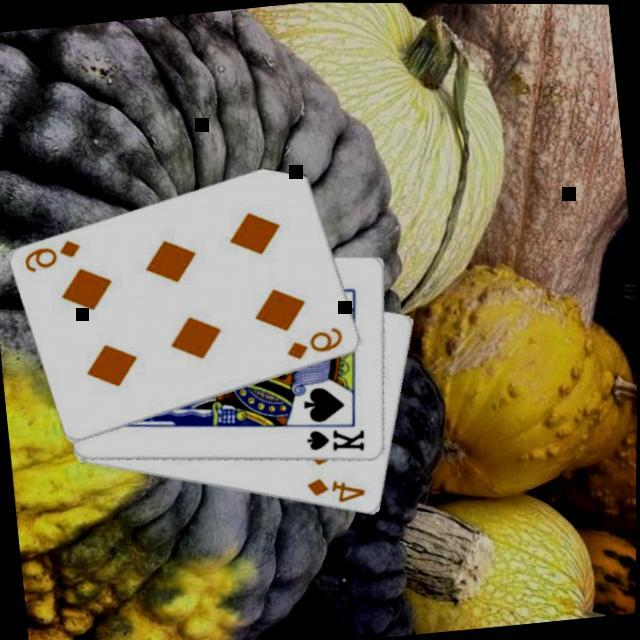4D: (304, 472, 372, 511)
6D: (284, 325, 348, 365), (22, 238, 86, 278)
KS: (304, 424, 371, 461)
